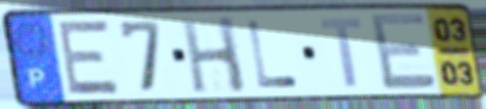7: (118, 19, 166, 95)
E: (366, 10, 441, 93), (56, 18, 123, 98)
H: (177, 14, 250, 96)
L: (244, 19, 302, 91)
T: (317, 16, 365, 90)
